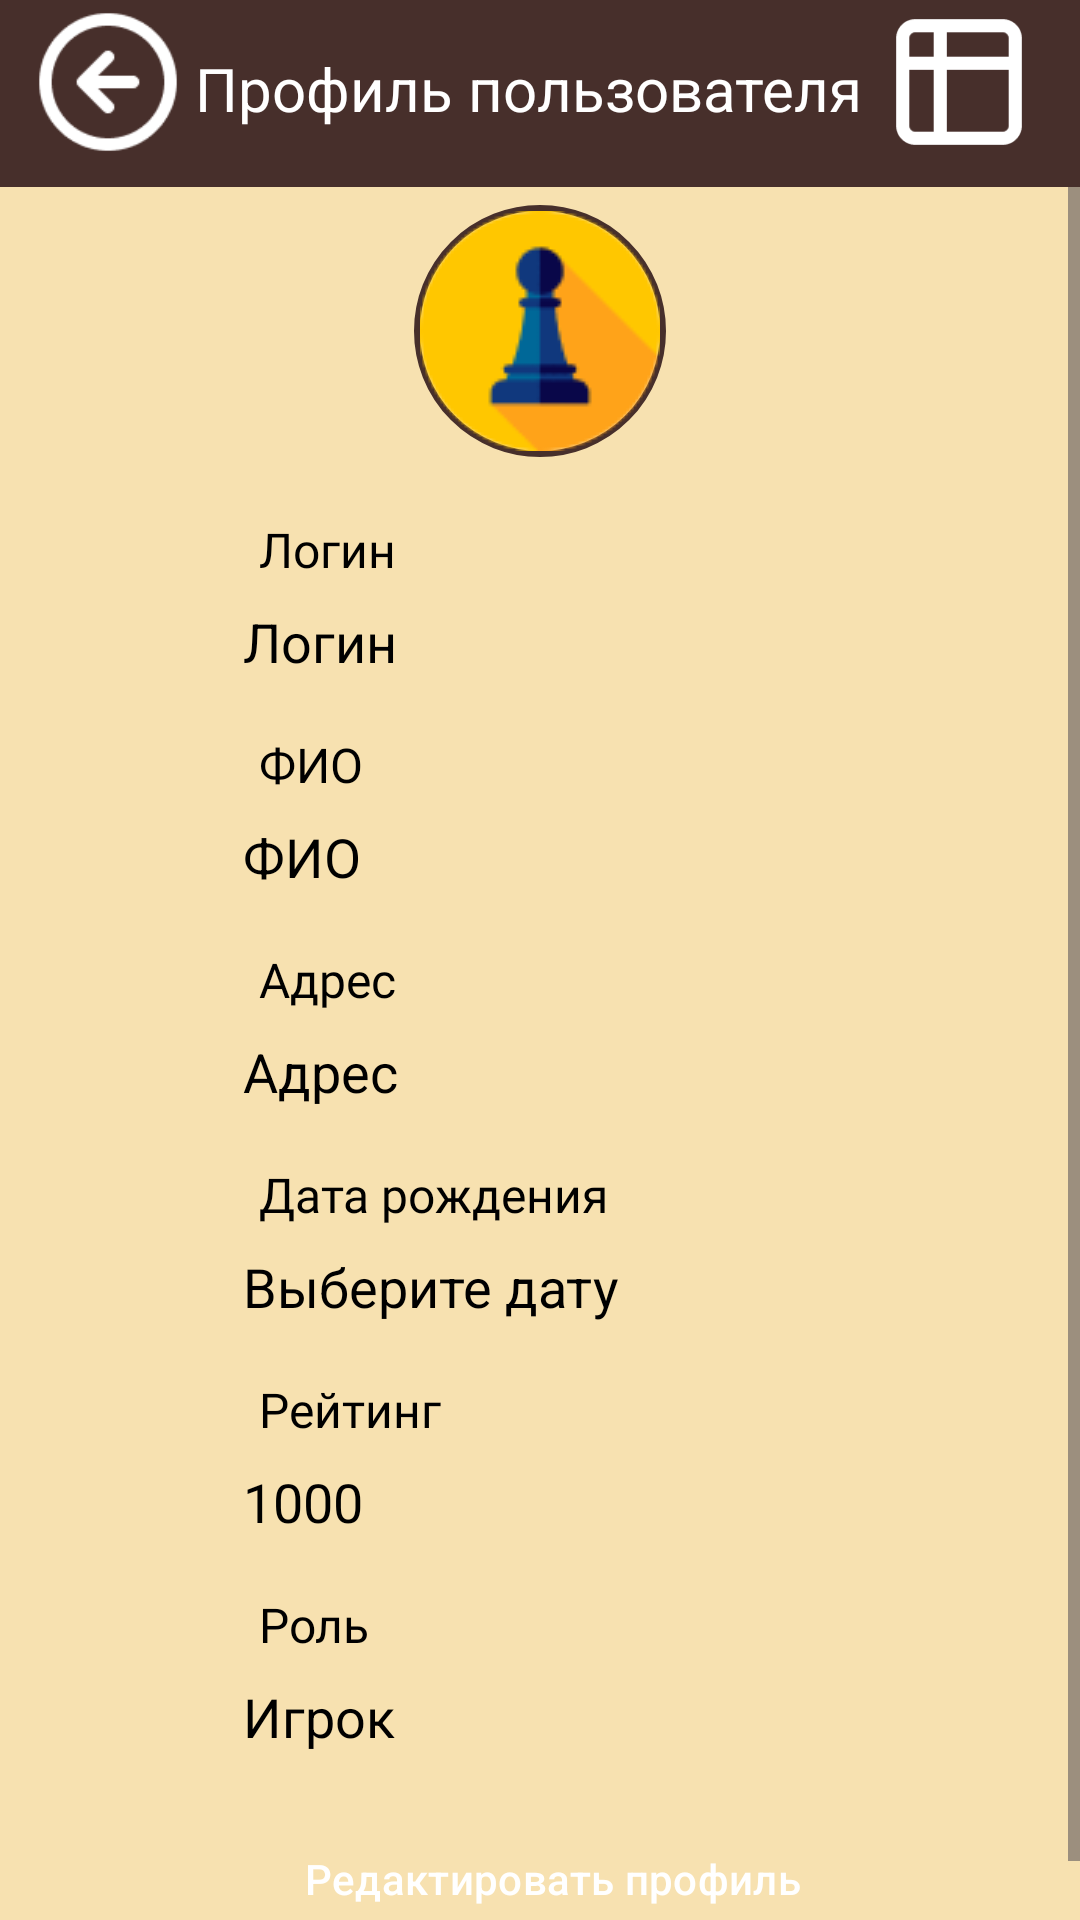

Point at icon controls on the screen. Image size 1080 x 1920, points as [x,y].
circle arrow: [108,82]
table: [959,82]
Аватар профиля: [540,331]
